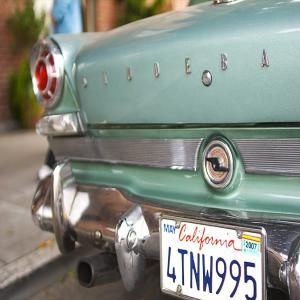Vehicle-registration-plate: (160, 222, 265, 295)
